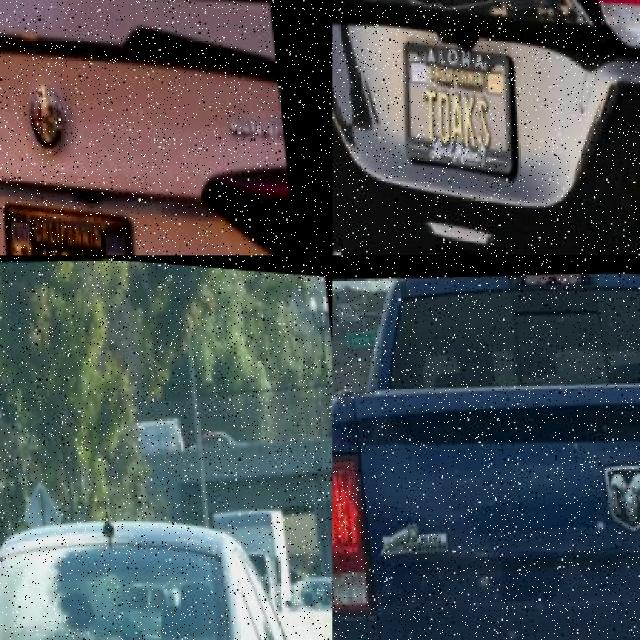licenseplate: (396, 25, 522, 183), (1, 187, 137, 256)
